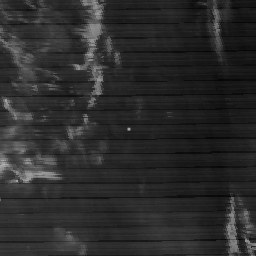Target: (126, 126, 132, 132)
